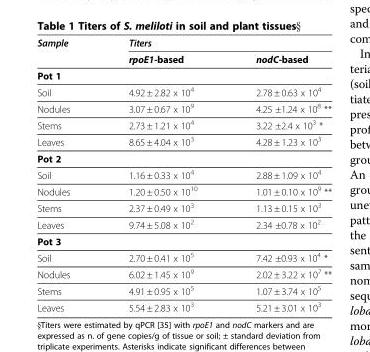table: (36, 36, 331, 313)
table column: (98, 36, 225, 313), (225, 36, 331, 313), (36, 36, 98, 313)
table column header: (36, 36, 331, 67)
table projected row header: (36, 149, 331, 165), (36, 232, 331, 248), (36, 67, 331, 82)
table row: (36, 50, 331, 67), (36, 82, 331, 99), (36, 99, 331, 116), (36, 132, 331, 149), (36, 165, 331, 182), (36, 198, 331, 215), (36, 215, 331, 232), (36, 248, 331, 265), (36, 281, 331, 298), (36, 116, 331, 132), (36, 149, 331, 165), (36, 182, 331, 198), (36, 232, 331, 248), (36, 265, 331, 281), (36, 67, 331, 82), (36, 298, 331, 313), (36, 36, 331, 50)
table spanning cell: (98, 36, 331, 50), (36, 36, 98, 67)
